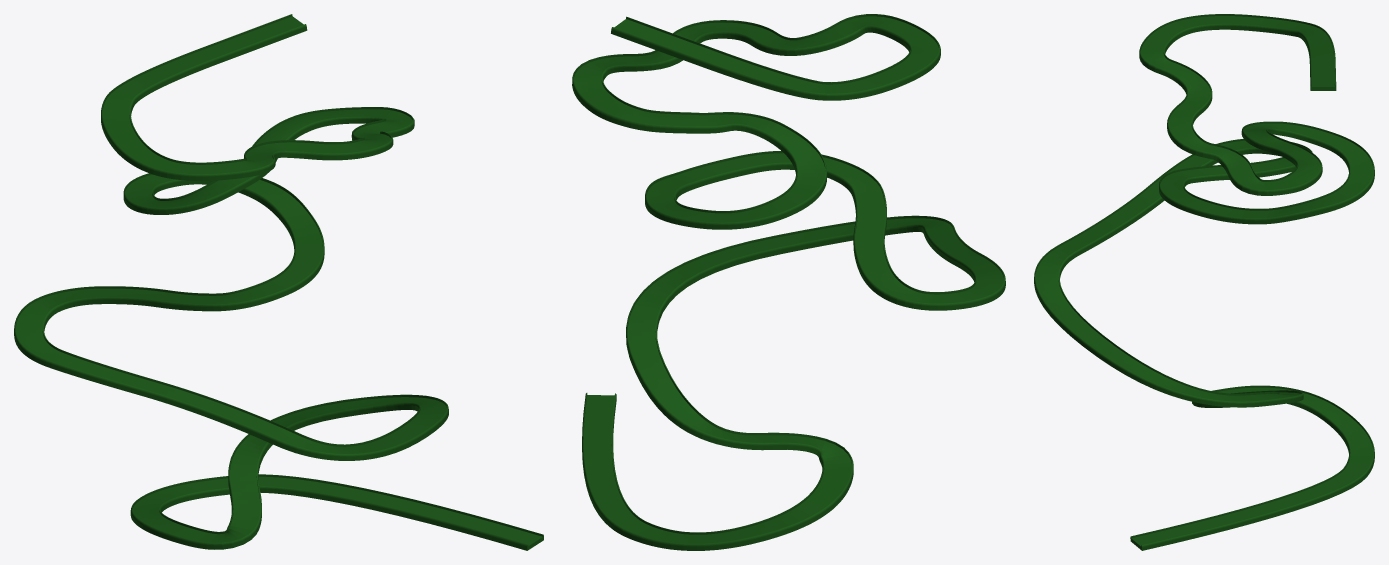
Rendered from Strecke 5.fbx.
The picture shows the model from 3 angles, left to right: view 1: azimuth 30°, elevation 25°; view 2: azimuth 150°, elevation 25°; view 3: azimuth 270°, elevation 25°; orthographic projection. The views are drawn at different scales.
Visible parts, largest first — view 1: Cube; view 2: Cube; view 3: Cube.
Part boxes in pixels (x1,y1,x2,y2): Cube: [14, 14, 543, 550]; Cube: [572, 14, 1005, 550]; Cube: [1034, 14, 1374, 550].
Bounding box in the file's own units: 3508 × 3489 × 2641.
